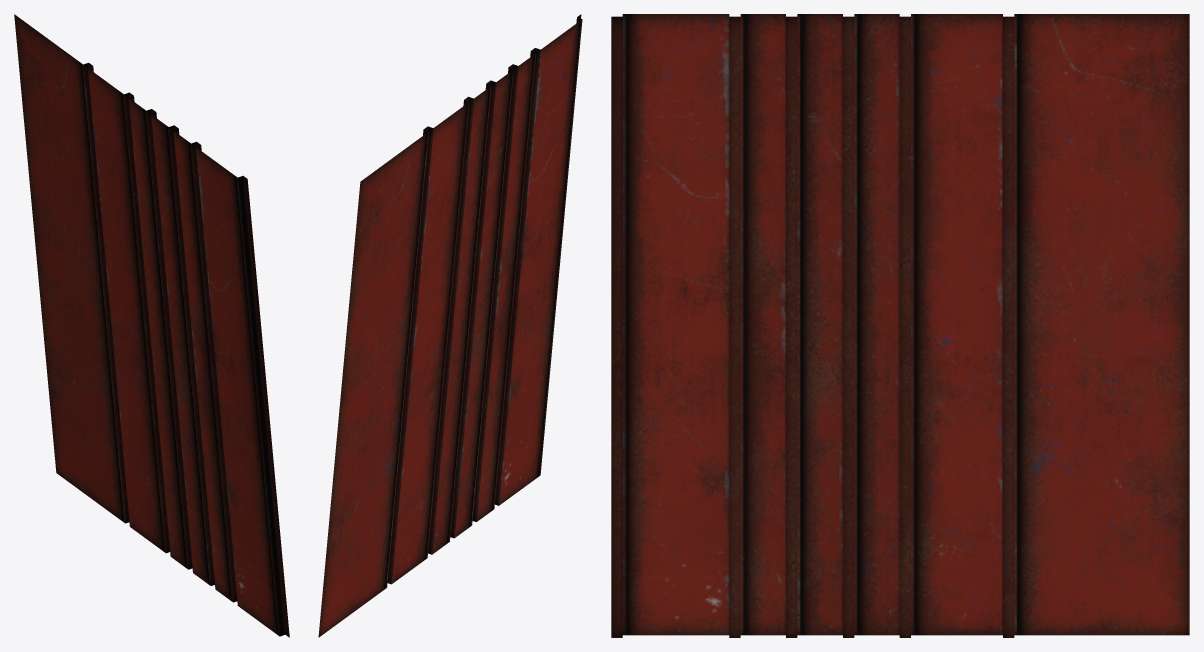
File: Tool_Cabinet_Drawers_low.obj
3 views of the same model, side by side, from view 1: azimuth 30°, elevation 25°; view 2: azimuth 150°, elevation 25°; view 3: azimuth 270°, elevation 25° (orthographic). The views are drawn at different scales.
Size of the model in its own units: 0.0629 by 0.5921 by 0.5206.
Materials: 1 (1 with a texture image).
